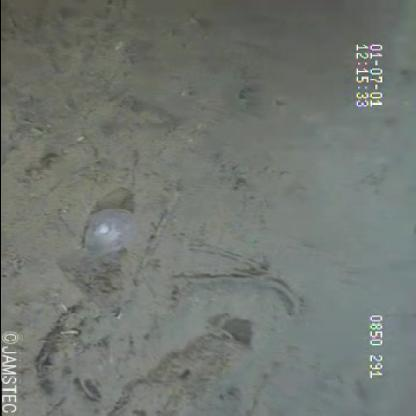Rác: (70, 194, 152, 264)
